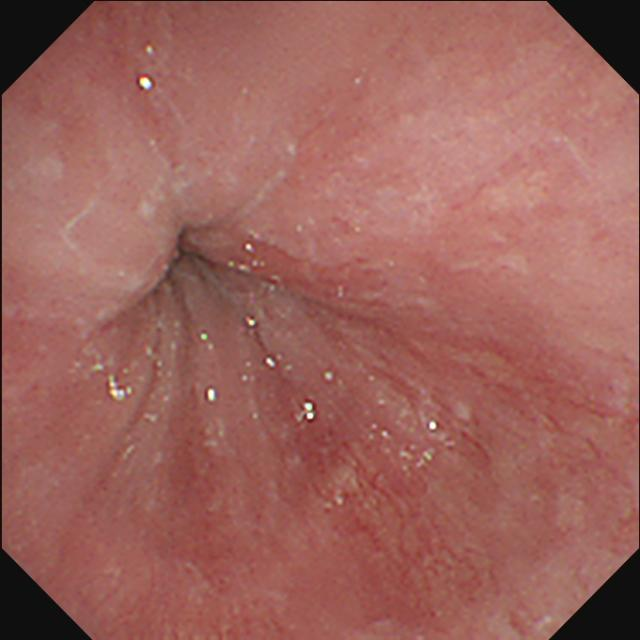I: (55, 139, 379, 433)
U: (137, 42, 156, 90)
